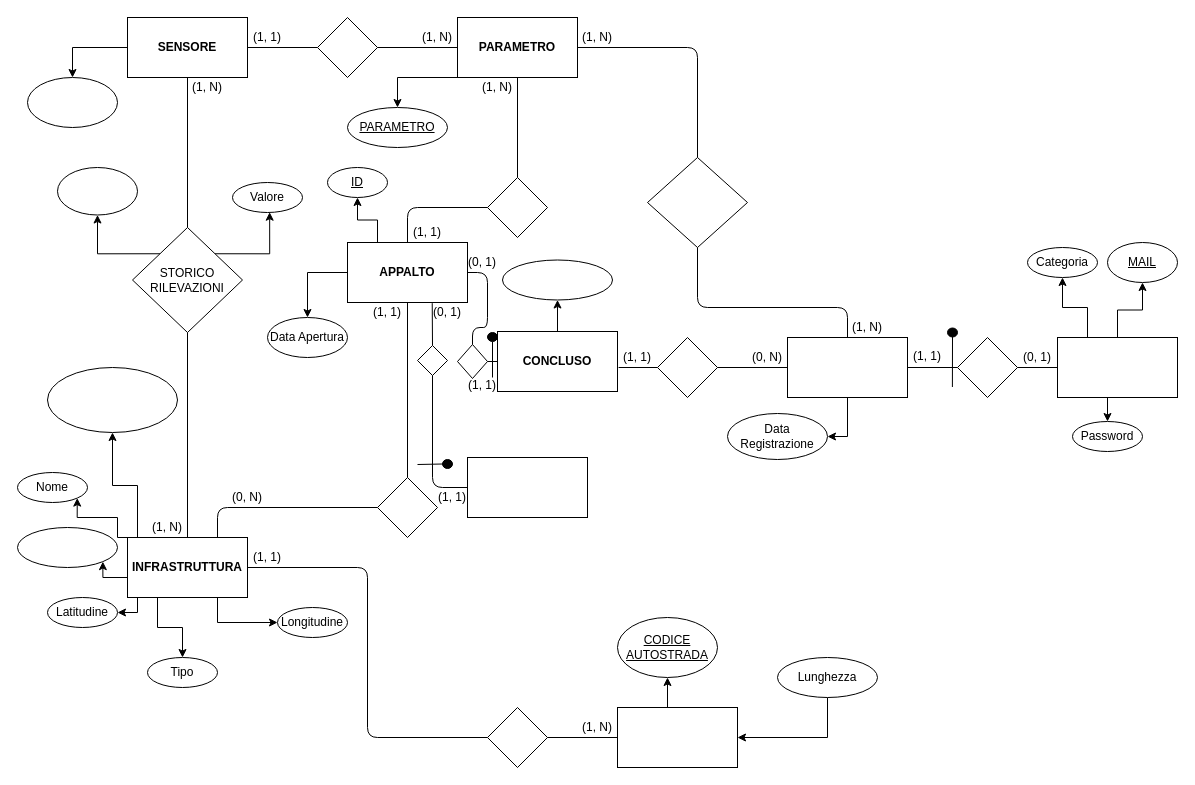
This 1195x785 diagram has some shape labels left out. The shapes that lost their labels are listed below. From the top down, each one's centre as x and y in pixels, then its label:
point 72,102: ID SENSORE
point 97,190: Data Rilevazione
point 697,202: DISPONIBILITÀ
point 557,279: Data Esecuzione Intervento
point 847,367: SOCIETÀ MANUTENZIONE
point 1117,367: UTENTE
point 112,399: CODICE INFRASTRUTTURA
point 527,487: APERTO
point 67,547: Indice di Bontà
point 677,737: AUTOSTRADA
